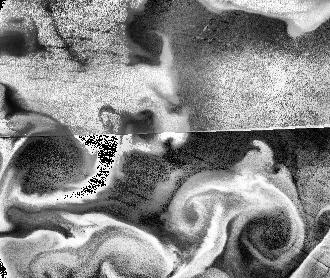AE: (242, 197, 305, 266)
CE: (173, 184, 212, 238)
